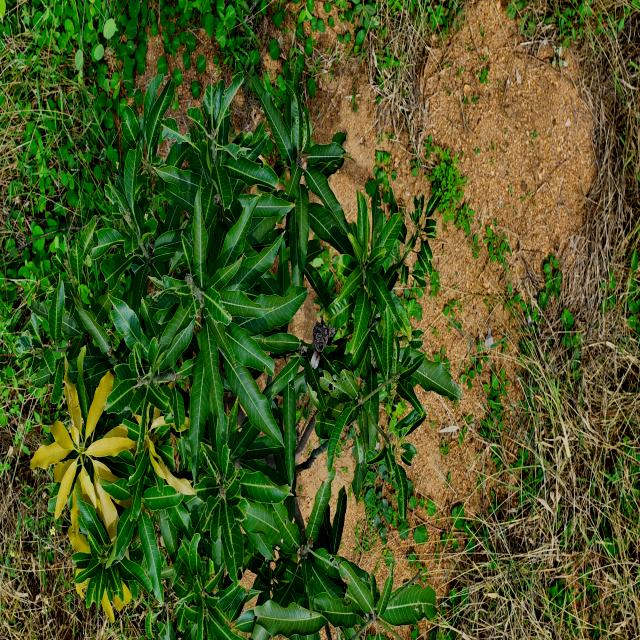mangoTree: (19, 65, 460, 640)
